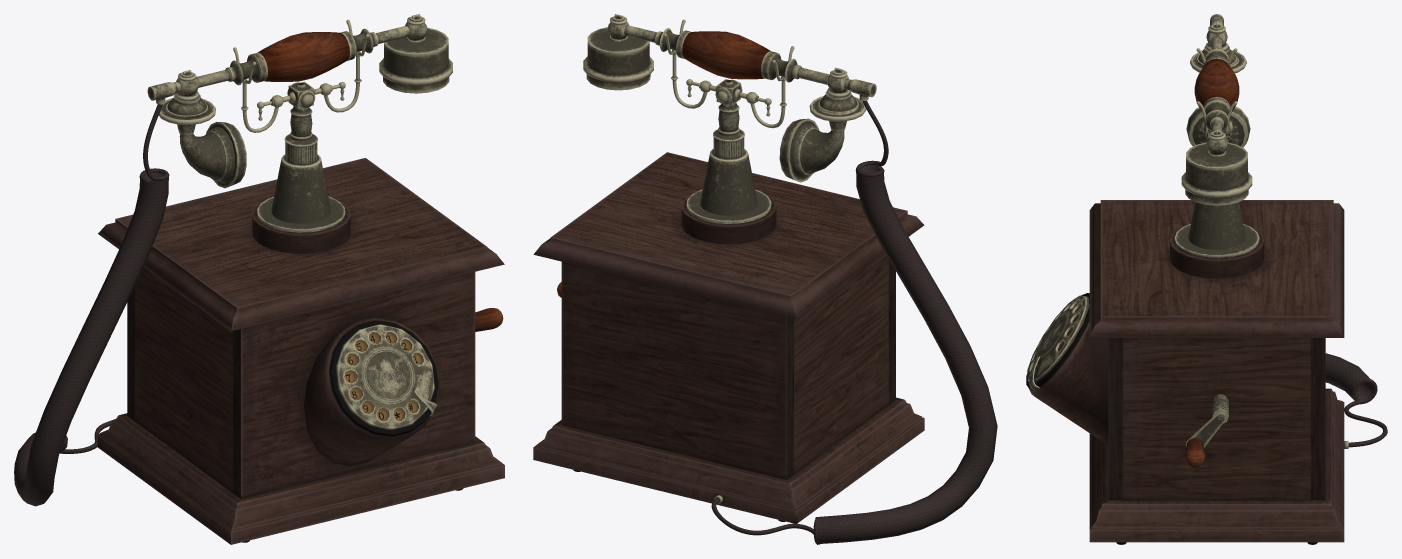
File: telephone.obj
3 renders of one model, left to right at view 1: azimuth 30°, elevation 25°; view 2: azimuth 150°, elevation 25°; view 3: azimuth 270°, elevation 25°, orthographic. The views are drawn at different scales.
Parts seen in each view (by area): view 1: object_0; view 2: object_0; view 3: object_0.
Boxes of the visible parts, bbox=[...] form: object_0: bbox=[14, 14, 504, 544]; object_0: bbox=[533, 14, 997, 544]; object_0: bbox=[1026, 14, 1387, 544].
Bounding box in the file's own units: 32.09 × 29.3 × 22.69.
